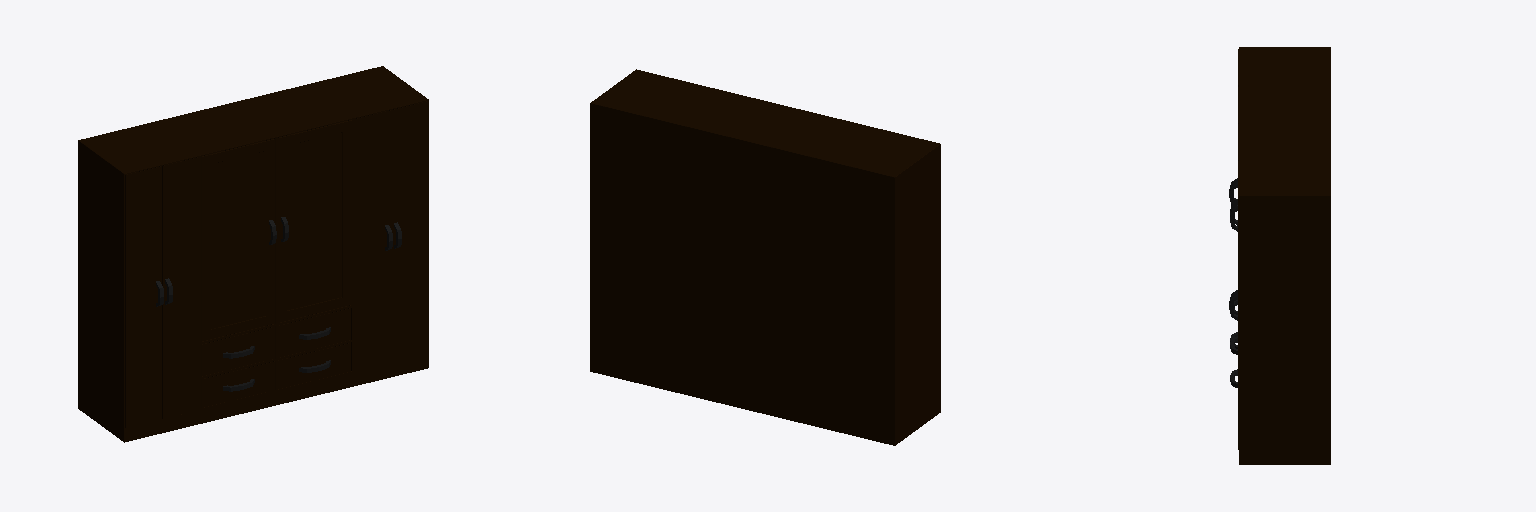
File: LargeWardrobe1.obj
3 views of the same model, side by side, from view 1: azimuth 30°, elevation 25°; view 2: azimuth 150°, elevation 25°; view 3: azimuth 270°, elevation 25° (orthographic).
Parts seen in each view (by area): view 1: LargeWardrobe1_Cube, ClosetDoorLeft2_LargeWardrobe1_Cube.004, ClosetDoorRight2_LargeWardrobe1_Cube.003, ClosetDoorRight1_LargeWardrobe1_Cube.001, ClosetDoorRight3_LargeWardrobe1_Cube.005, ClosetDoorLeft3_LargeWardrobe1_Cube.006, ClosetDoorLeft1_LargeWardrobe1_Cube.002, Drawer3_LargeWardrobe1_Cube.007, Drawer1_LargeWardrobe1_Cube.009, Drawer4_LargeWardrobe1_Cube.008, Drawer2_LargeWardrobe1_Cube.010; view 2: LargeWardrobe1_Cube; view 3: LargeWardrobe1_Cube.
Boxes of the visible parts, <box> form: LargeWardrobe1_Cube: <box>78,66,428,442</box>; ClosetDoorLeft2_LargeWardrobe1_Cube.004: <box>278,120,351,322</box>; ClosetDoorRight2_LargeWardrobe1_Cube.003: <box>202,139,276,340</box>; ClosetDoorRight1_LargeWardrobe1_Cube.001: <box>125,166,163,427</box>; ClosetDoorRight3_LargeWardrobe1_Cube.005: <box>354,110,392,371</box>; ClosetDoorLeft3_LargeWardrobe1_Cube.006: <box>391,101,427,362</box>; ClosetDoorLeft1_LargeWardrobe1_Cube.002: <box>162,157,198,418</box>; Drawer3_LargeWardrobe1_Cube.007: <box>278,308,350,357</box>; Drawer1_LargeWardrobe1_Cube.009: <box>202,327,274,375</box>; Drawer4_LargeWardrobe1_Cube.008: <box>278,343,350,388</box>; Drawer2_LargeWardrobe1_Cube.010: <box>202,361,274,407</box>; LargeWardrobe1_Cube: <box>590,69,940,445</box>; LargeWardrobe1_Cube: <box>1239,47,1330,464</box>.
Bounding box in the file's own units: 2.5 × 2.1 × 0.7201.